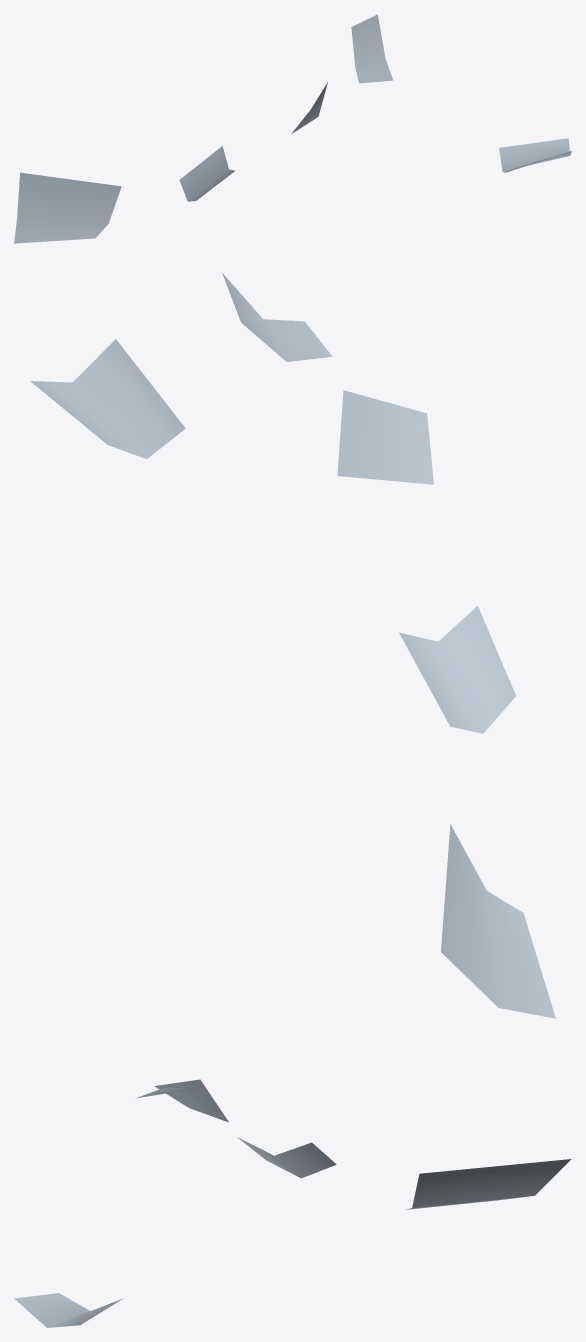
File: plantar-tarsometatarsal-ligaments-r.glb
The picture shows the model from 3 angles, top to bottom: view 1: azimuth 30°, elevation 25°; view 2: azimuth 150°, elevation 25°; view 3: azimuth 270°, elevation 25°; orthographic projection. The views are drawn at different scales.
Visible parts, largest first — view 1: Plantar tarsometatarsal ligaments.r; view 2: Plantar tarsometatarsal ligaments.r; view 3: Plantar tarsometatarsal ligaments.r.
Boxes of the visible parts, box(x1,y1,x2,y2) form: Plantar tarsometatarsal ligaments.r: box(14, 14, 571, 243); Plantar tarsometatarsal ligaments.r: box(30, 273, 555, 1018); Plantar tarsometatarsal ligaments.r: box(14, 1079, 571, 1327).
Bounding box in the file's own units: 0.0397 × 0.0219 × 0.0327.
